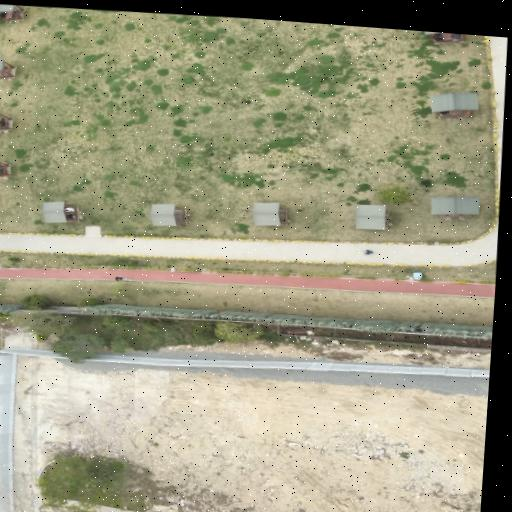person: (434, 33, 443, 40), (115, 276, 130, 280), (453, 34, 462, 40), (65, 206, 75, 211), (363, 249, 372, 254), (440, 110, 451, 114), (67, 214, 76, 218)
